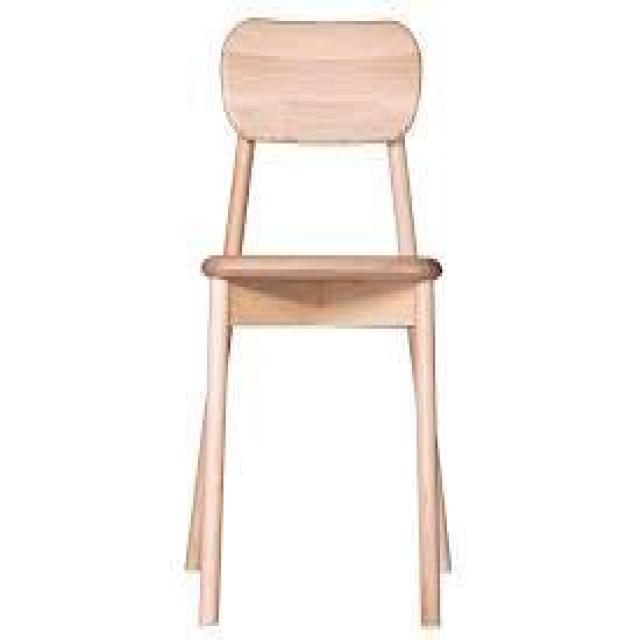chair: (176, 25, 483, 612)
